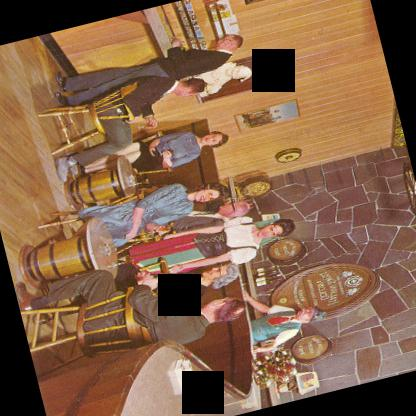handbag: (140, 269, 150, 277)
